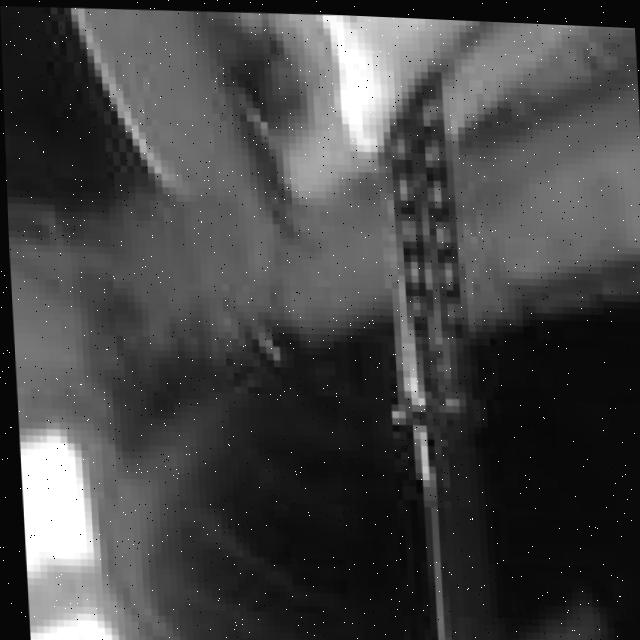knife: (357, 64, 481, 640)
